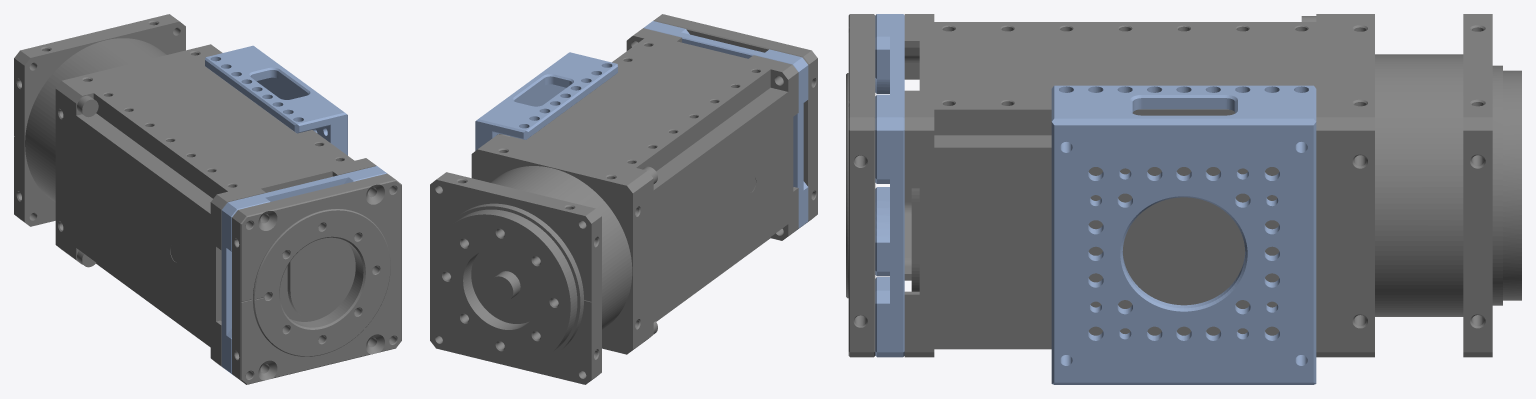
The model's file is robotis_arm_link1.dae.
3 views of the same model, side by side, from view 1: azimuth 30°, elevation 25°; view 2: azimuth 150°, elevation 25°; view 3: azimuth 270°, elevation 25° (orthographic). The views are drawn at different scales.
Parts seen in each view (by area): view 1: Untitled_003, Untitled, Untitled_002, Untitled_001; view 2: Untitled_003, Untitled_002, Untitled, Untitled_001; view 3: Untitled_003, Untitled_002, Untitled_001, Untitled.
Boxes of the visible parts, <box> form: Untitled_003: <box>14,14,376,369</box>; Untitled: <box>232,173,401,384</box>; Untitled_002: <box>205,45,347,155</box>; Untitled_001: <box>221,166,386,375</box>; Untitled_003: <box>430,28,798,384</box>; Untitled_002: <box>475,52,617,150</box>; Untitled: <box>653,14,817,223</box>; Untitled_001: <box>643,21,808,231</box>; Untitled_003: <box>904,14,1521,357</box>; Untitled_002: <box>1051,85,1316,384</box>; Untitled_001: <box>875,14,904,357</box>; Untitled: <box>846,14,875,357</box>.
Size of the model in its own units: 0.06 by 0.138 by 0.06.
